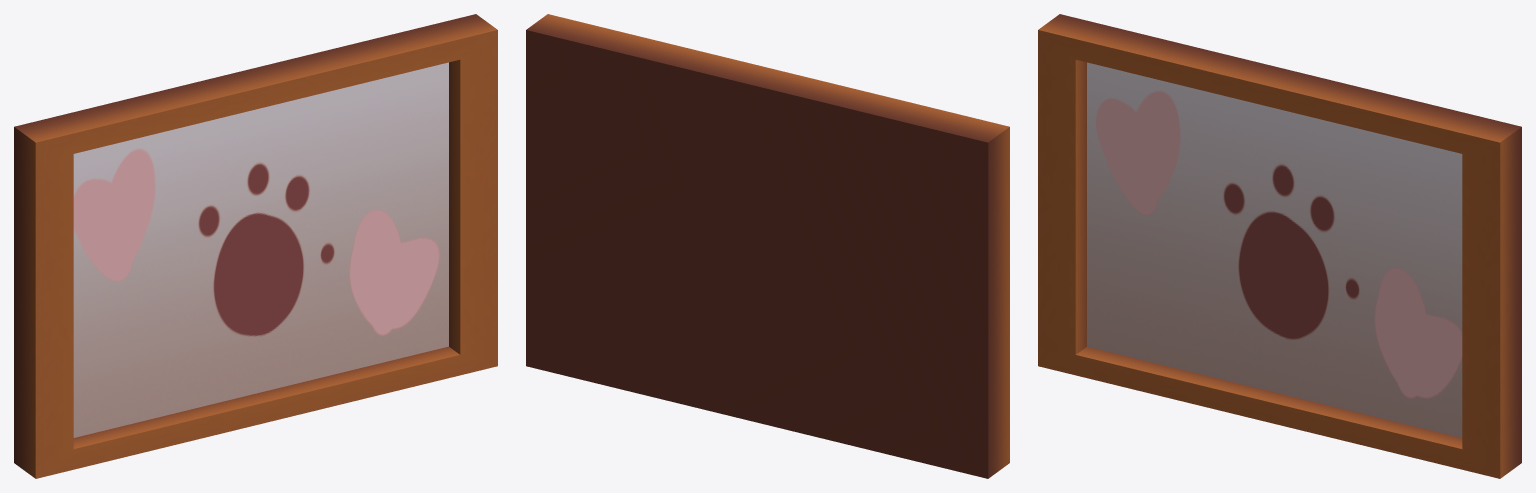
The model's file is M_frame02.FBX.
3 views of the same model, side by side, from view 1: azimuth 30°, elevation 25°; view 2: azimuth 150°, elevation 25°; view 3: azimuth 330°, elevation 25° (orthographic).
Visible parts, largest first — view 1: Box019; view 2: Box019; view 3: Box019.
Part boxes in pixels (x1,y1,x2,y2): Box019: [14, 14, 497, 478]; Box019: [526, 14, 1009, 478]; Box019: [1038, 14, 1521, 478].
Bounding box in the file's own units: 53.05 × 4.33 × 36.89.
